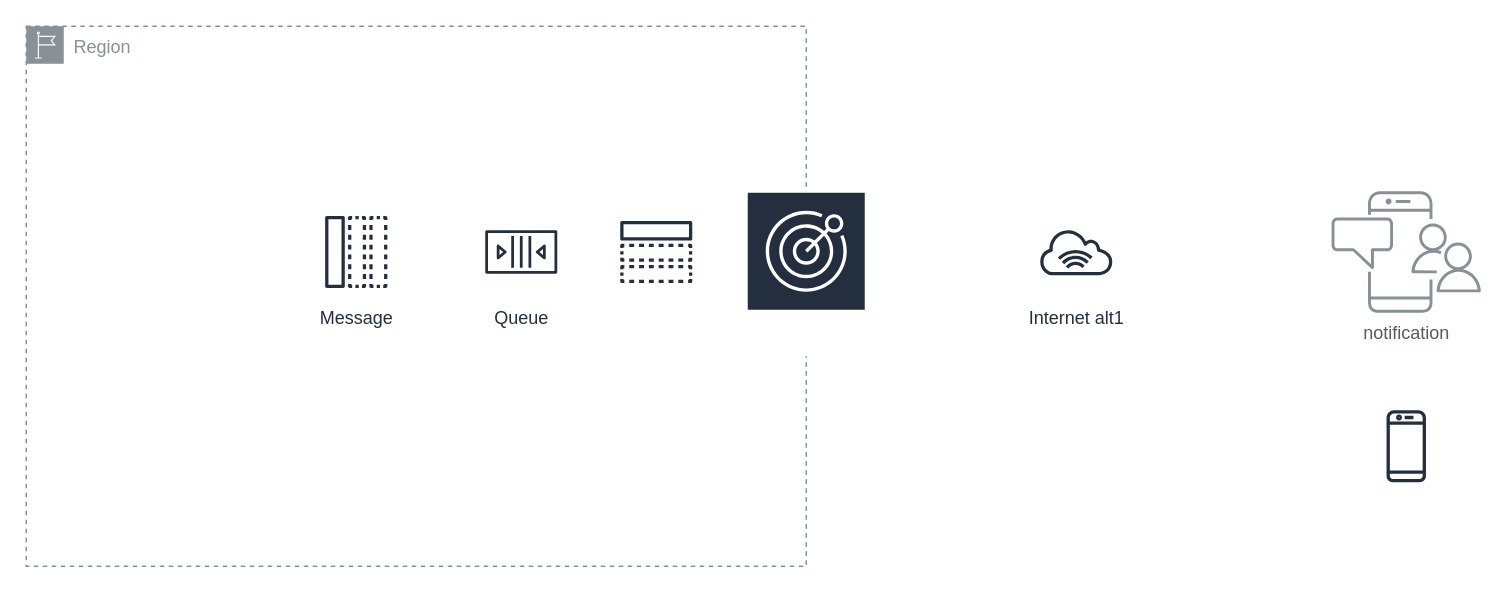
Image size: 1508x593. Some labels were removed from this diagram. The centre of each missing label's shape, as x and y in pixels:
"Amazon Pinpoint" belongs at [805,273].
"Mobile client" belongs at [1405,445].
"Topic" belongs at [655,251].
